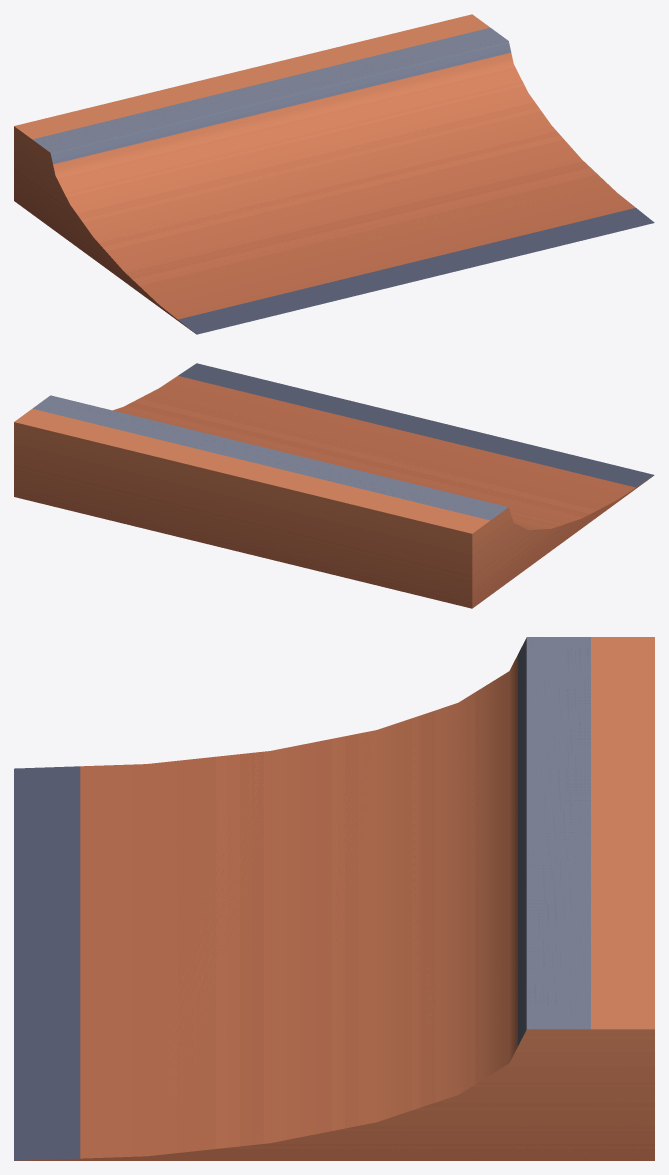
File: half-pipe_lev2.glb
The picture shows the model from 3 angles, top to bottom: view 1: azimuth 30°, elevation 25°; view 2: azimuth 150°, elevation 25°; view 3: azimuth 270°, elevation 25°; orthographic projection. The views are drawn at different scales.
Parts seen in each view (by area): view 1: half-pipe_lev2; view 2: half-pipe_lev2; view 3: half-pipe_lev2.
Part boxes in pixels (bbox=[...]): half-pipe_lev2: bbox=[14, 14, 654, 334]; half-pipe_lev2: bbox=[14, 363, 654, 608]; half-pipe_lev2: bbox=[14, 637, 654, 1160].
Size of the model in its own units: 5.12 by 0.8 by 3.54.
Materials: 1 (1 with a texture image).
